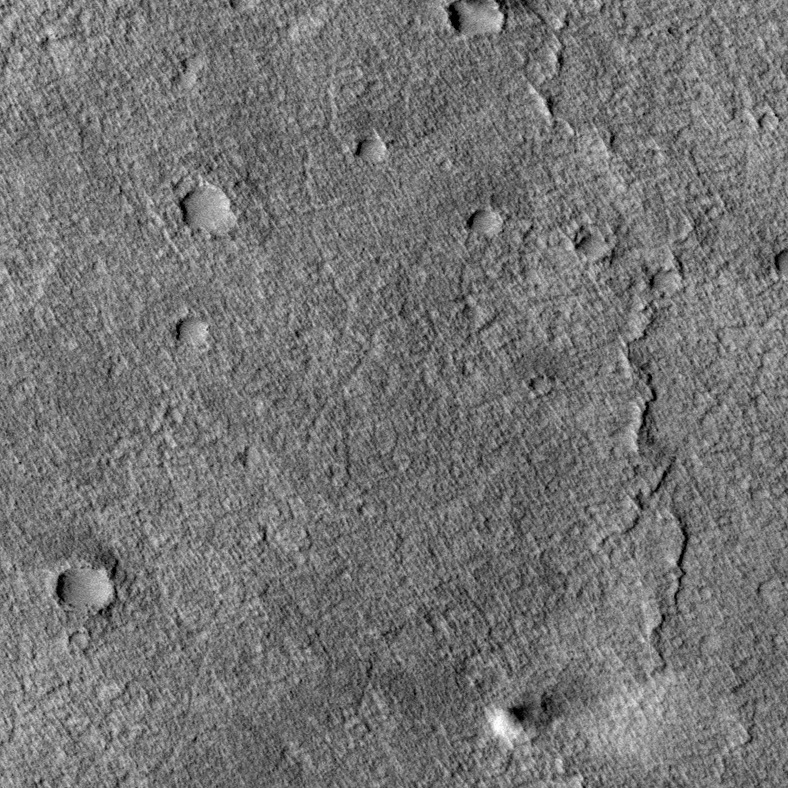dust_devil: (483, 694, 568, 750)
